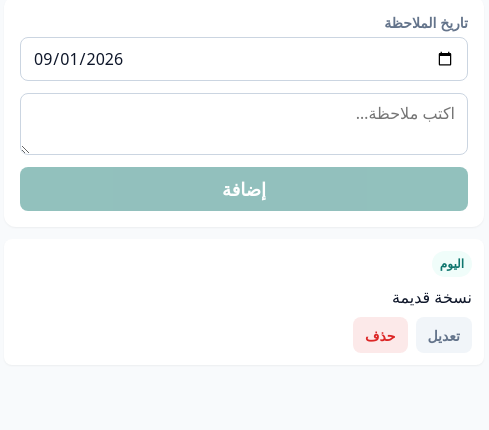
it: <NotesView> › edits a note inline in place
Click the button with test id "note-edit". click: (444, 335)
box: [416, 317, 472, 353]
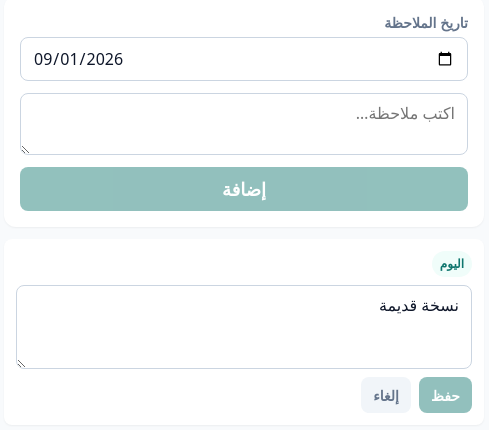
Check: the text box with test id "note-editor" is shown
Replace the text in the text box with test id "note-editor" with "نسخة محدثة". click: (244, 327)
box: [16, 285, 472, 369]
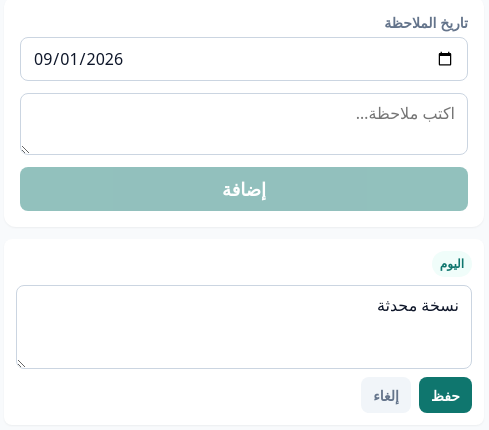
Click the button with test id "note-save-edit". click: (446, 395)
box: [419, 377, 472, 413]
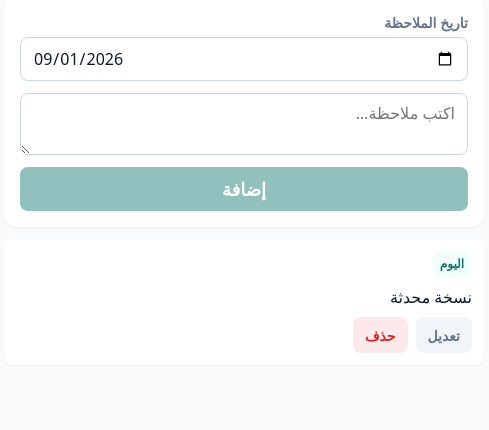
Check: the text "نسخة محدثة" is shown, box [390, 286, 472, 308]
